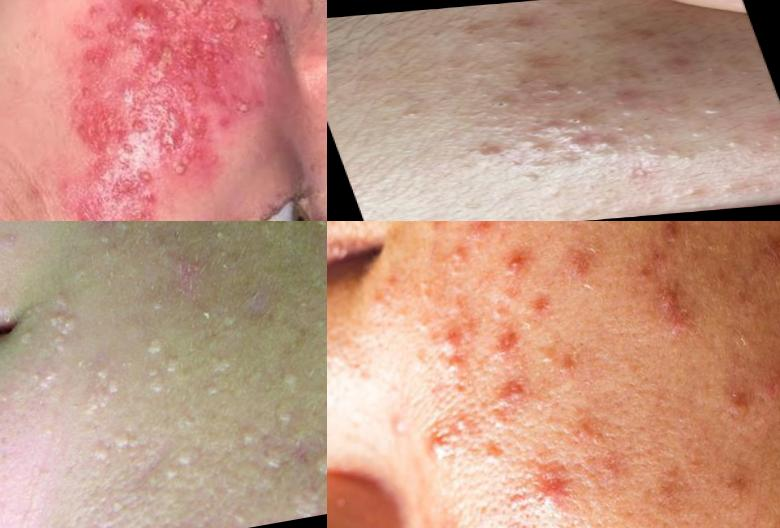acne_scars: (153, 252, 202, 308), (307, 222, 328, 283), (74, 222, 124, 246), (517, 54, 571, 74)
blackhead: (522, 111, 601, 138), (469, 93, 521, 117), (606, 94, 641, 121), (553, 132, 591, 154), (690, 101, 729, 120), (602, 120, 637, 137), (511, 170, 546, 187), (532, 81, 566, 98), (679, 184, 711, 198), (659, 113, 687, 127), (531, 143, 552, 156)
cystic: (138, 37, 185, 93), (116, 1, 170, 48), (112, 67, 147, 112), (158, 106, 189, 150), (167, 1, 217, 28)
flat_wart: (129, 334, 185, 405), (85, 419, 148, 469), (164, 442, 212, 491), (79, 364, 119, 420), (282, 484, 328, 522), (256, 442, 290, 479), (68, 511, 115, 528)
milium: (41, 285, 86, 354), (305, 441, 328, 474)
papular: (639, 278, 697, 327), (434, 327, 480, 387), (415, 420, 466, 470), (530, 465, 577, 511), (618, 24, 663, 50), (472, 141, 513, 161), (662, 57, 710, 73), (508, 15, 539, 33), (240, 1, 278, 15)
purulent: (497, 249, 534, 290), (226, 94, 260, 129), (133, 161, 161, 197), (248, 24, 278, 56)
sebo-crystan-conglo: (165, 150, 203, 186)
whitehead: (629, 149, 687, 164), (725, 138, 746, 151)
